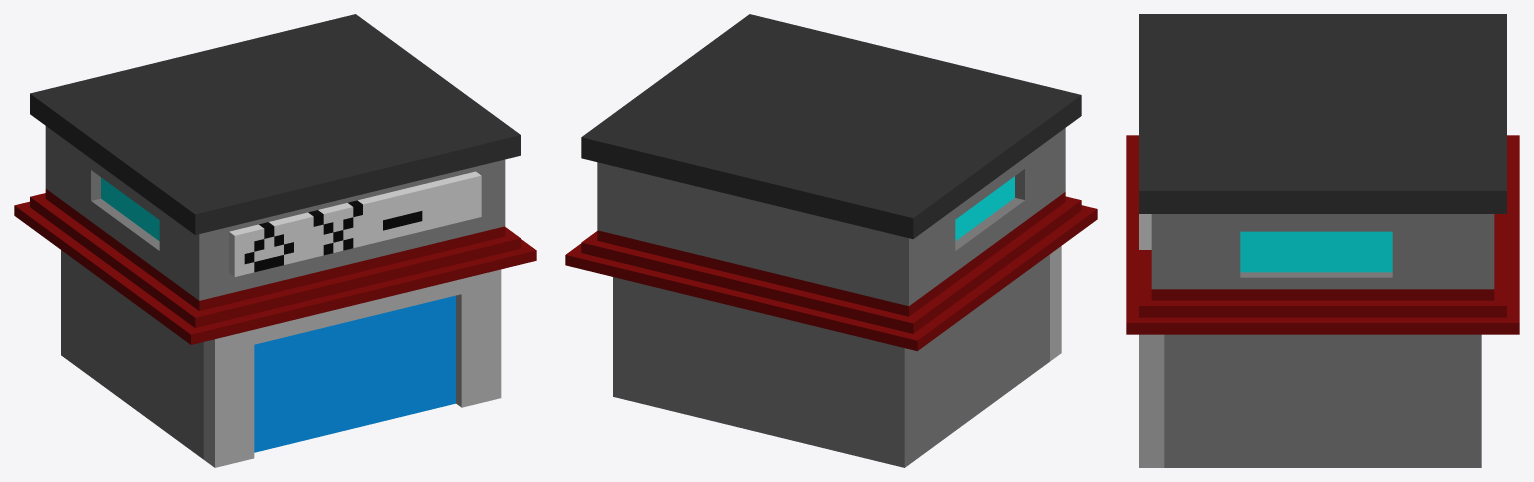
The model's file is Shop_obj.obj.
3 renders of one model, left to right at view 1: azimuth 30°, elevation 25°; view 2: azimuth 150°, elevation 25°; view 3: azimuth 270°, elevation 25°, orthographic. The views are drawn at different scales.
Parts seen in each view (by area): view 1: 立方体.9371; view 2: 立方体.9371; view 3: 立方体.9371.
Part boxes in pixels (box(x1,y1,x2,y2)): 立方体.9371: box(14, 14, 536, 467); 立方体.9371: box(565, 14, 1097, 467); 立方体.9371: box(1126, 14, 1519, 467).
Bounding box in the file's own units: 35 × 25 × 31.
